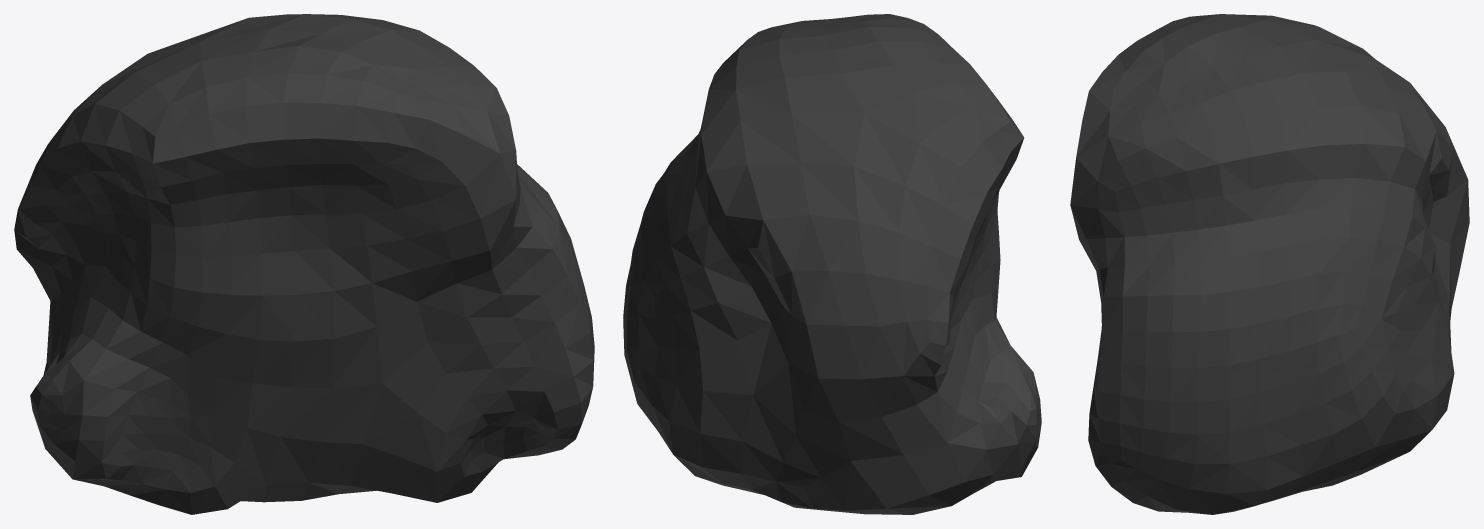
The model's file is 2nd_carpal_R.glb.
3 renders of one model, left to right at view 1: azimuth 30°, elevation 25°; view 2: azimuth 150°, elevation 25°; view 3: azimuth 270°, elevation 25°, orthographic. The views are drawn at different scales.
Visible parts, largest first — view 1: 2nd_carpal_R; view 2: 2nd_carpal_R; view 3: 2nd_carpal_R.
Part boxes in pixels (x1,y1,x2,y2): 2nd_carpal_R: (14,14,594,514); 2nd_carpal_R: (623,14,1041,514); 2nd_carpal_R: (1070,14,1469,514).
Size of the model in its own units: 0.0377 by 0.0355 by 0.031.
Materials: 1 (1 with a texture image).
